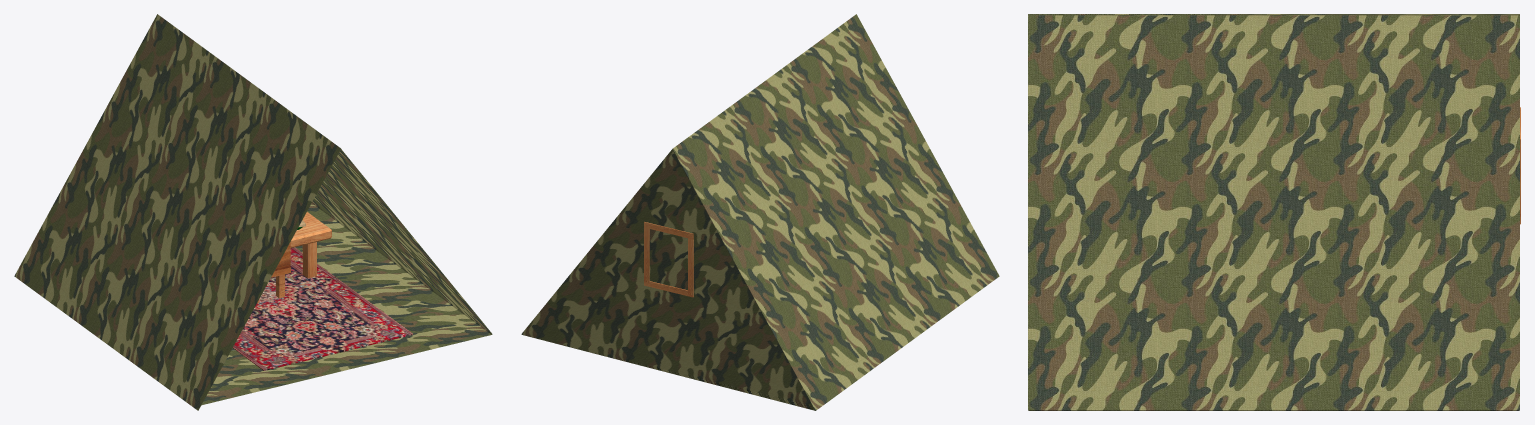
File: KGB.fbx
The picture shows the model from 3 angles, left to right: view 1: azimuth 30°, elevation 25°; view 2: azimuth 150°, elevation 25°; view 3: azimuth 270°, elevation 25°; orthographic projection. The views are drawn at different scales.
Parts seen in each view (by area): view 1: Palatka, Kover, Table, Chair-1; view 2: Palatka, Picture; view 3: Palatka.
Part boxes in pixels (box(x1,y1,x2,y2)): Palatka: box(14, 14, 492, 410); Kover: box(233, 247, 412, 370); Table: box(290, 212, 331, 277); Chair-1: box(257, 242, 290, 303); Palatka: box(521, 14, 999, 410); Picture: box(644, 222, 693, 297); Palatka: box(1028, 14, 1519, 410).
Size of the model in its own units: 3049 by 2258 by 3305.
Materials: 13 (7 with a texture image).
